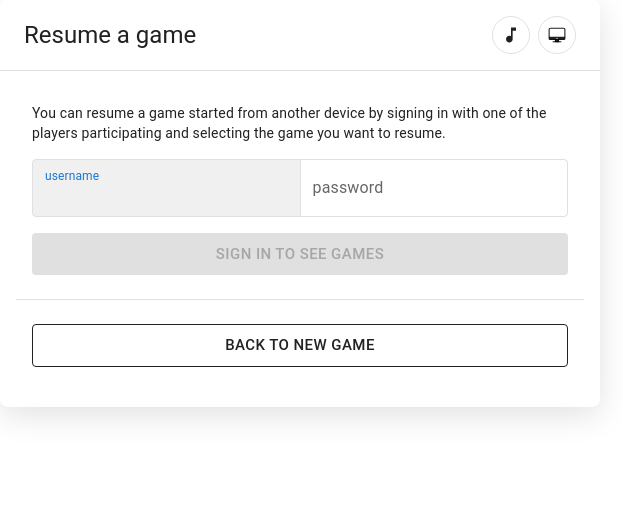
Test: ResumeGameView › logs in successfully and shows empty state when no resumable games exist
Type "alice" into the field labelled "username" at (166, 188), box [33,160,300,216]
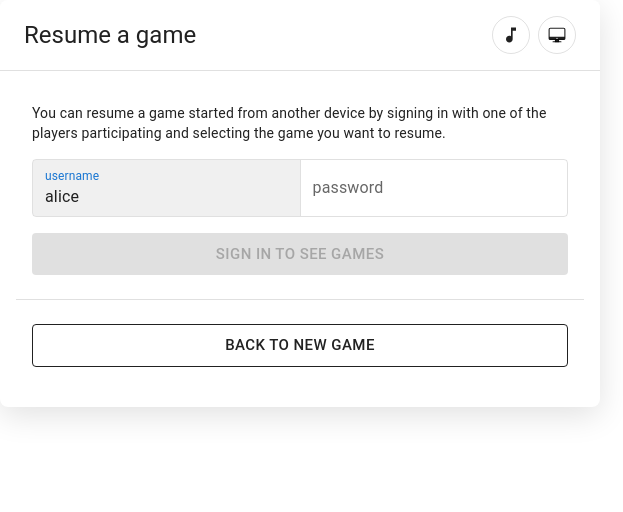
Type "secret" into the password field labelled "password" at (434, 188), box [300,160,567,216]
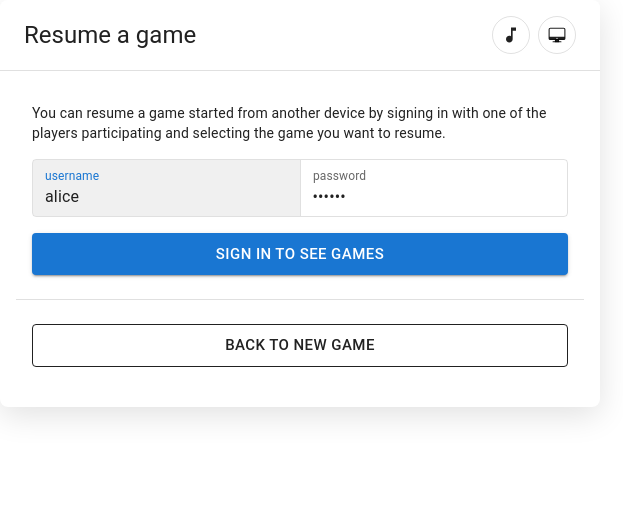
Click the button "Sign in to see games" at (300, 254), box [32,233,568,275]
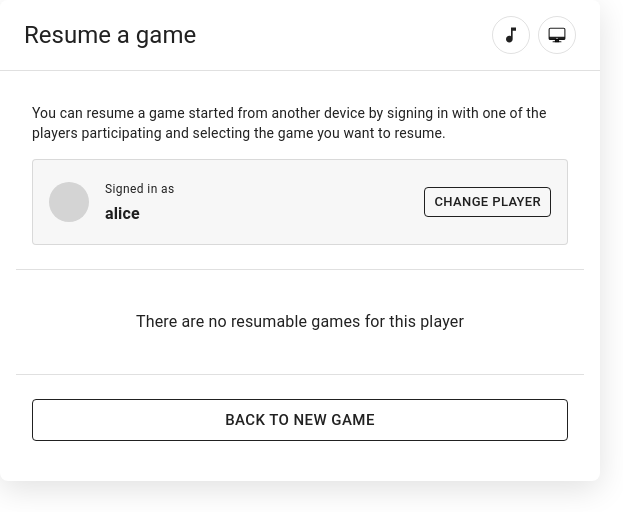
expect the text "Signed in as" is shown: met, box [105,182,175,196]
expect the heading "alice" is shown: met, box [105,204,140,223]
expect the text "There are no resumable games for this player" is shown: met, box [136,312,464,331]
